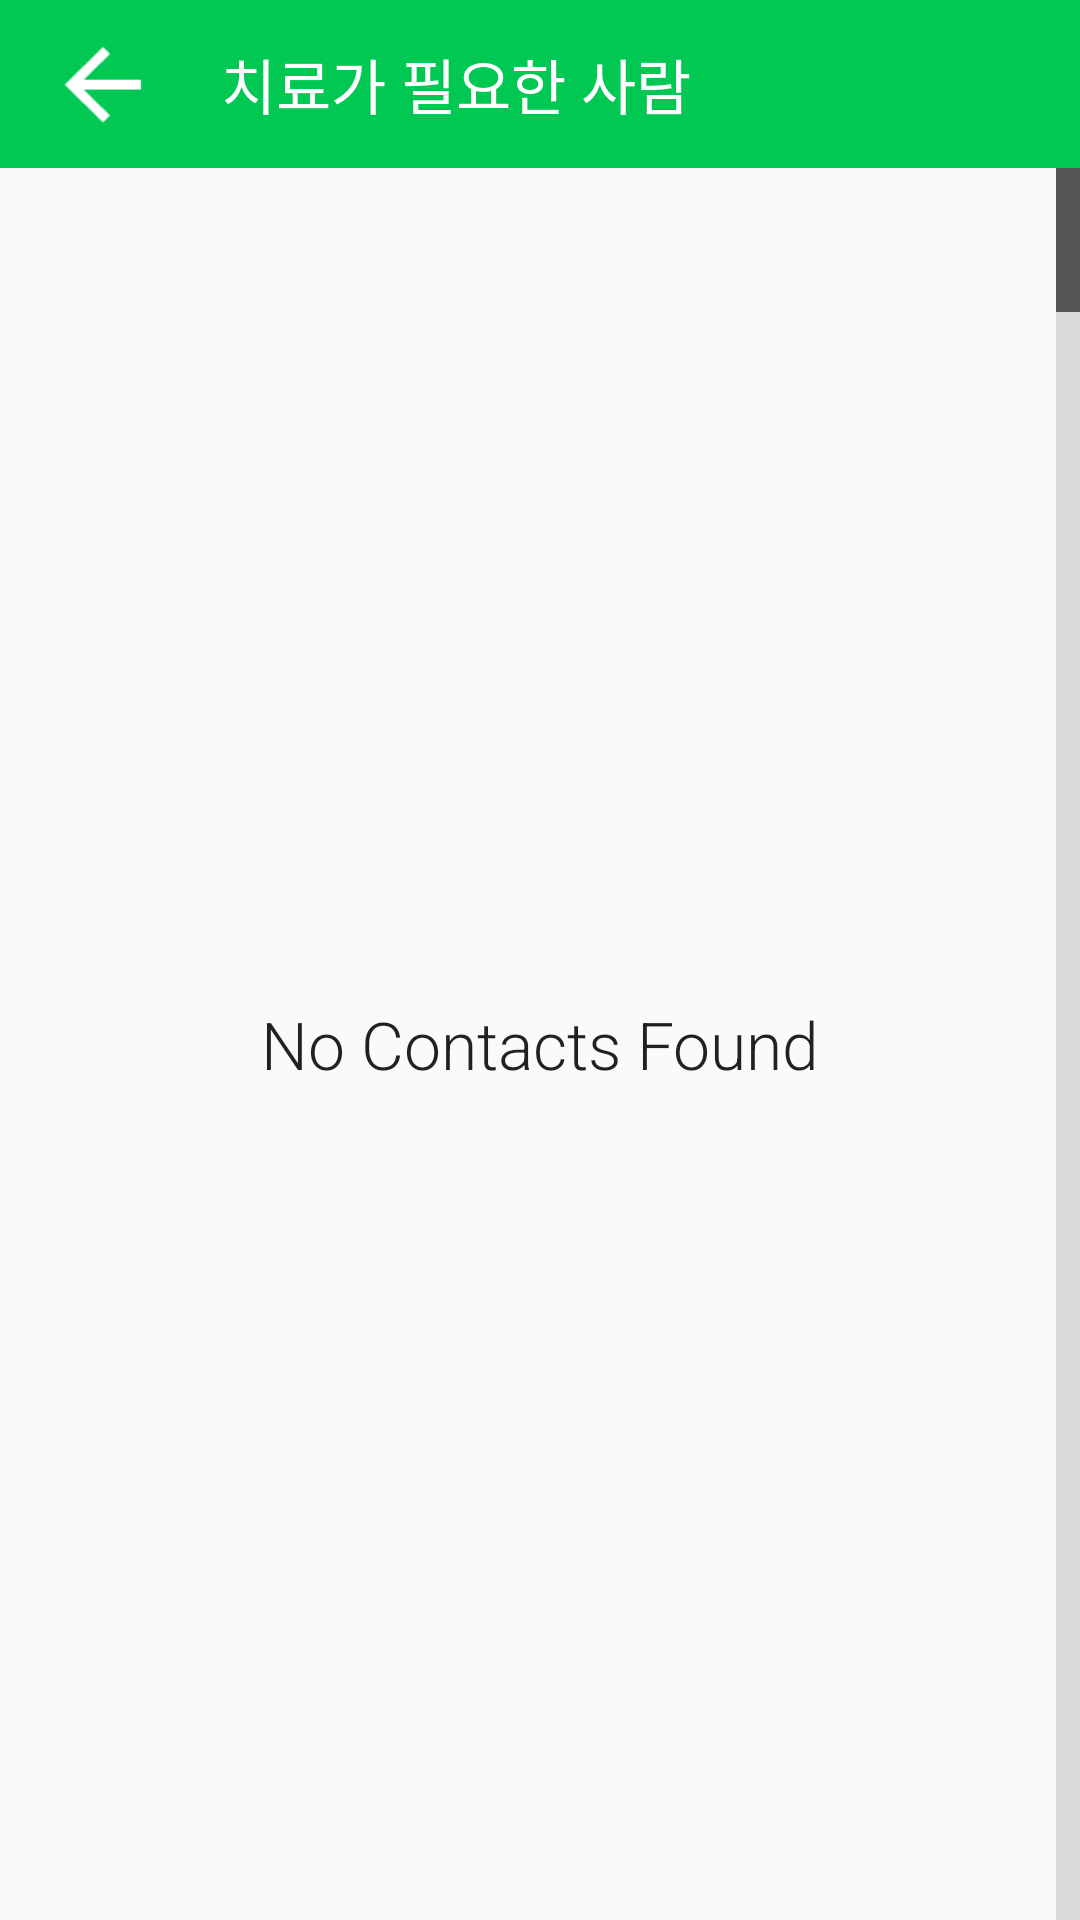

Icon bounding boxes for this 1080×1920 phone screenshot, format (x1, y1, x2, y2):
back: (65, 47, 142, 123)
